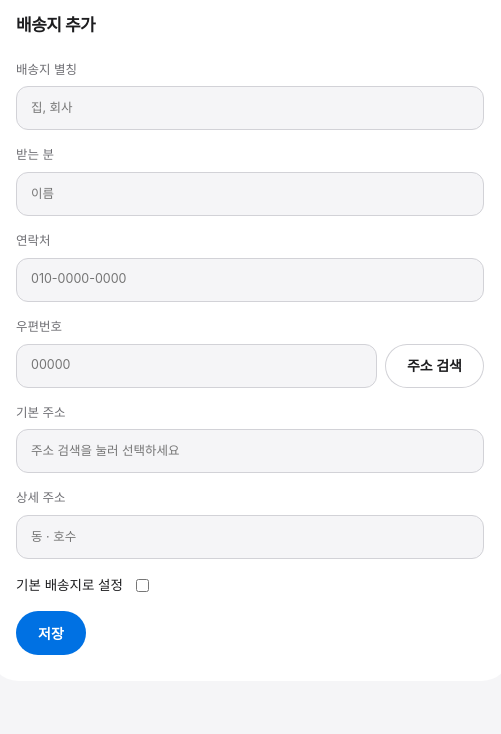
AddressForm › shows the message the server returned when the save fails
Click the button "주소 검색".
click(434, 366)  # box [385, 344, 484, 388]
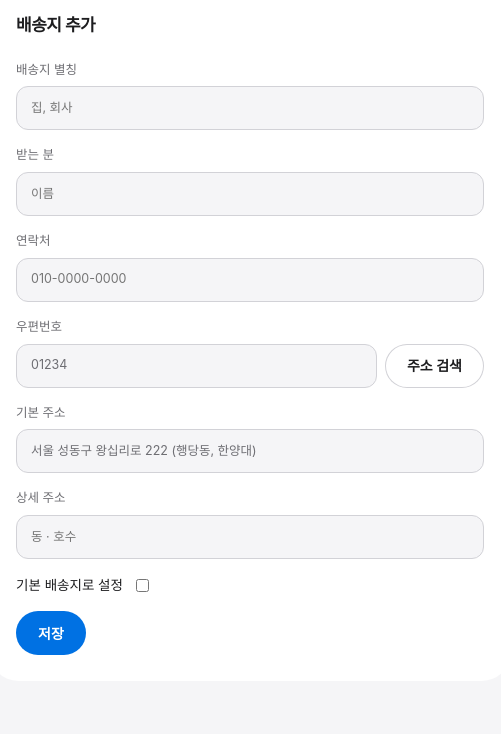
Type "집" into the field labelled "배송지 별칭".
click(250, 108); type("집")  # box [16, 86, 484, 130]
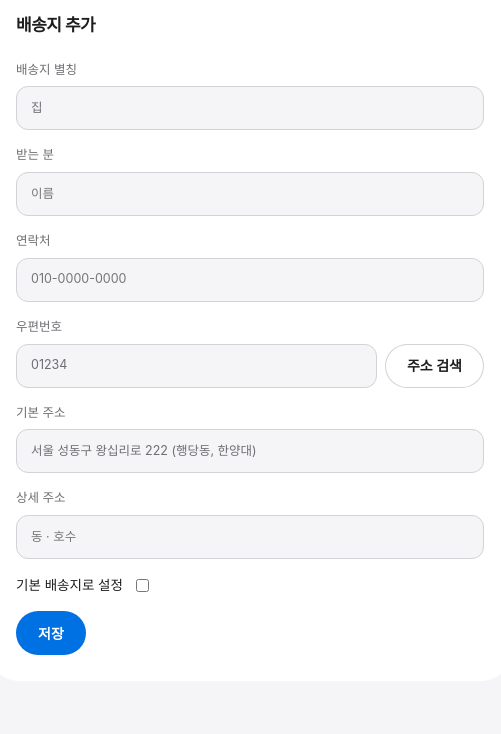
Type "김철수" into the field labelled "받는 분".
click(250, 194); type("김철수")  # box [16, 172, 484, 216]
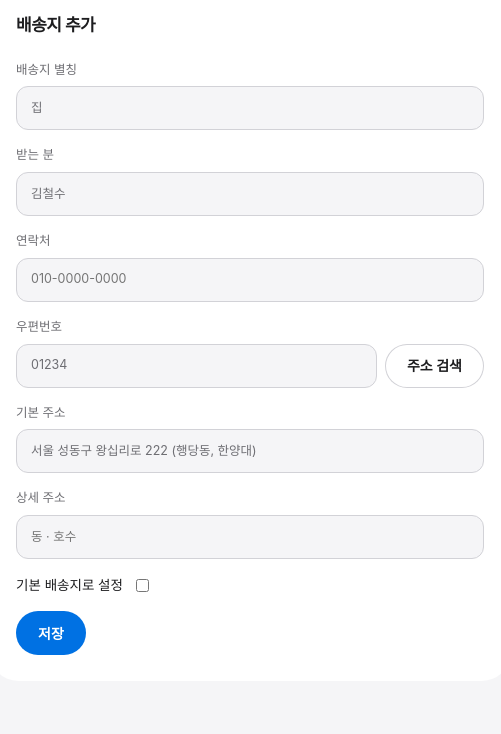
Type "010-1234-5678" into the field labelled "연락처".
click(250, 280); type("010-1234-5678")  # box [16, 258, 484, 302]
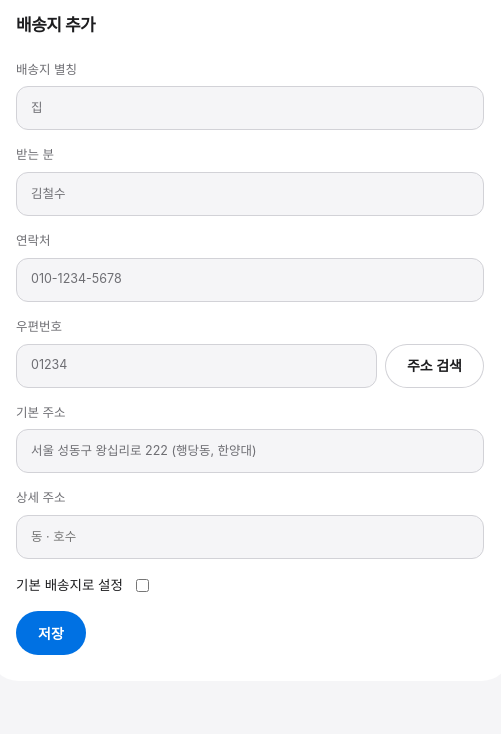
Click the button "저장".
click(51, 633)  # box [16, 611, 86, 655]
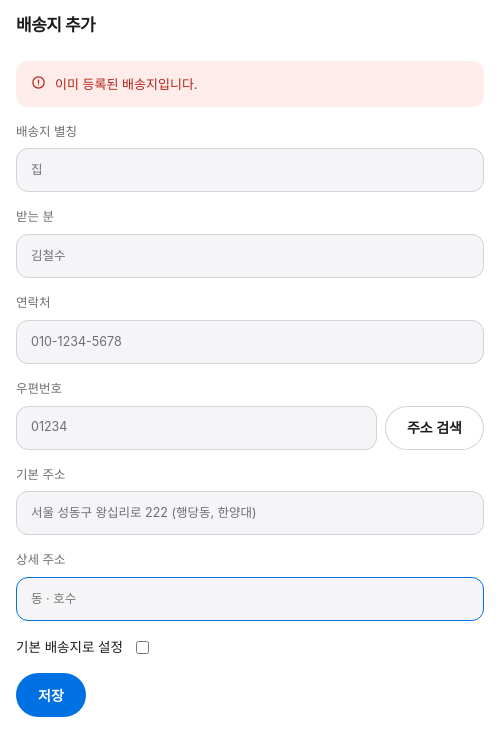
Check: the message reads "이미 등록된 배송지입니다.", box [55, 76, 198, 92]
